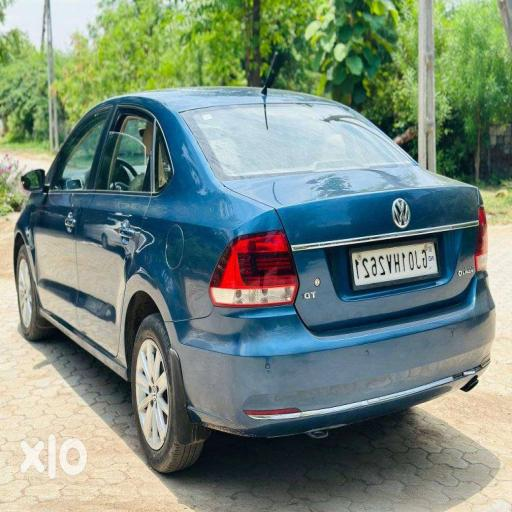License: (347, 236, 440, 288)
